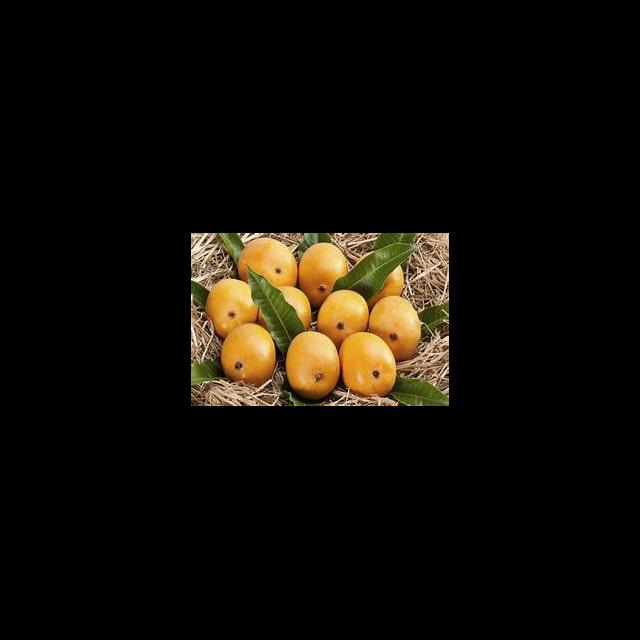mango: (286, 332, 340, 400), (339, 333, 396, 397), (221, 324, 276, 387), (369, 296, 421, 361), (205, 279, 258, 339), (299, 244, 348, 308), (318, 290, 369, 349), (238, 239, 297, 287), (278, 286, 311, 331), (258, 310, 268, 329)
